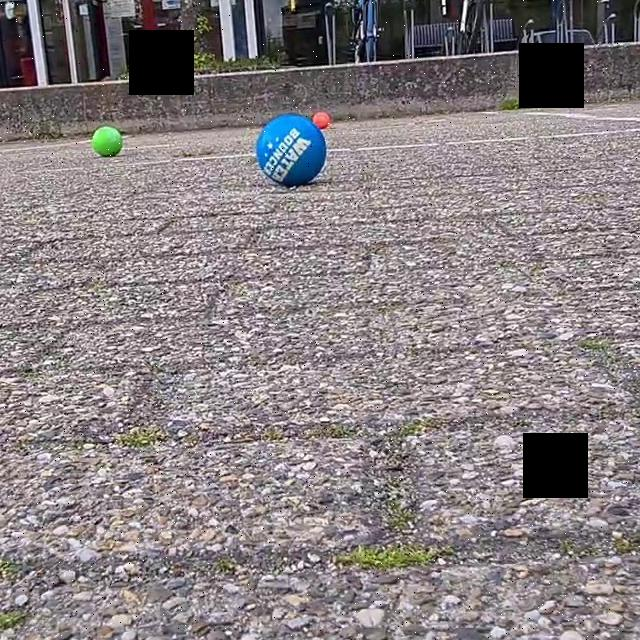ball: (88, 123, 124, 159), (309, 108, 334, 131)
